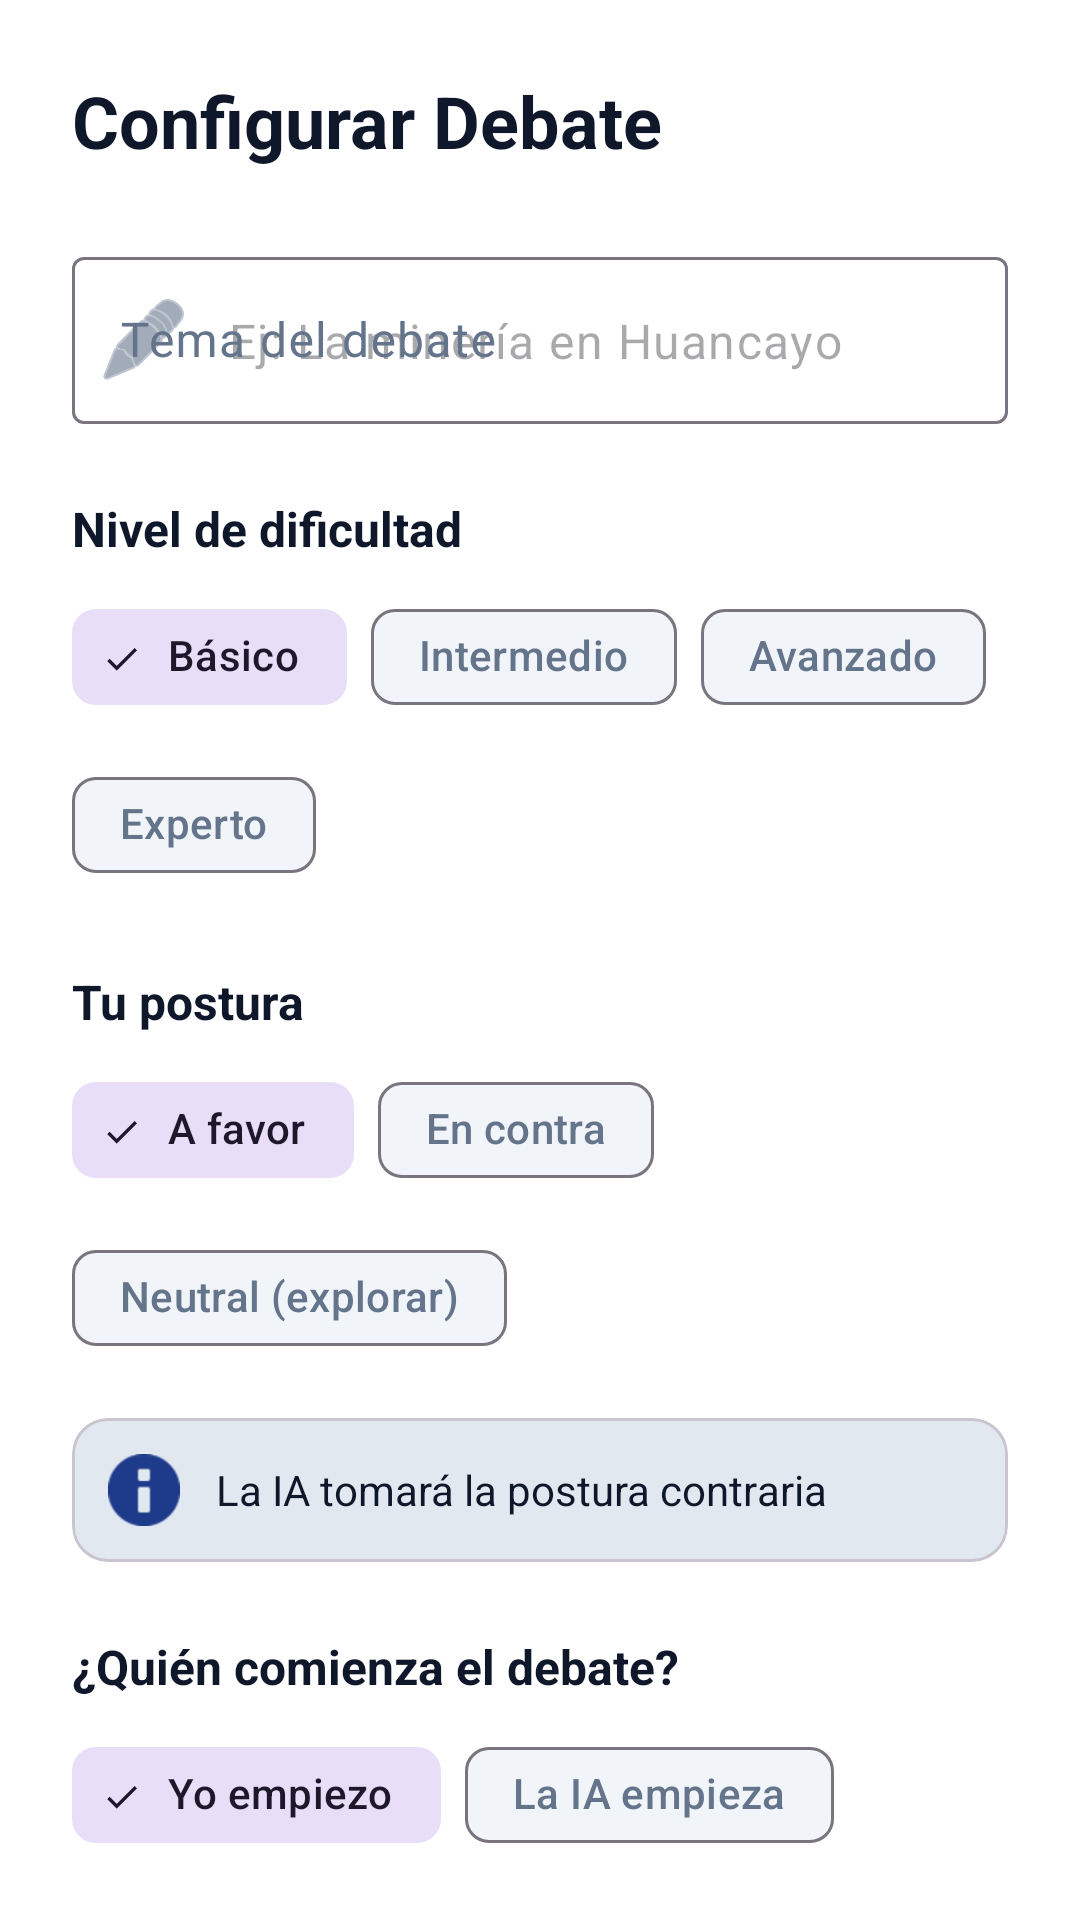

Locate icon controls on the screen. Image size 1080*1920, boxes as (x1, y1, x2, y2).
info: (108, 1454, 180, 1526)
